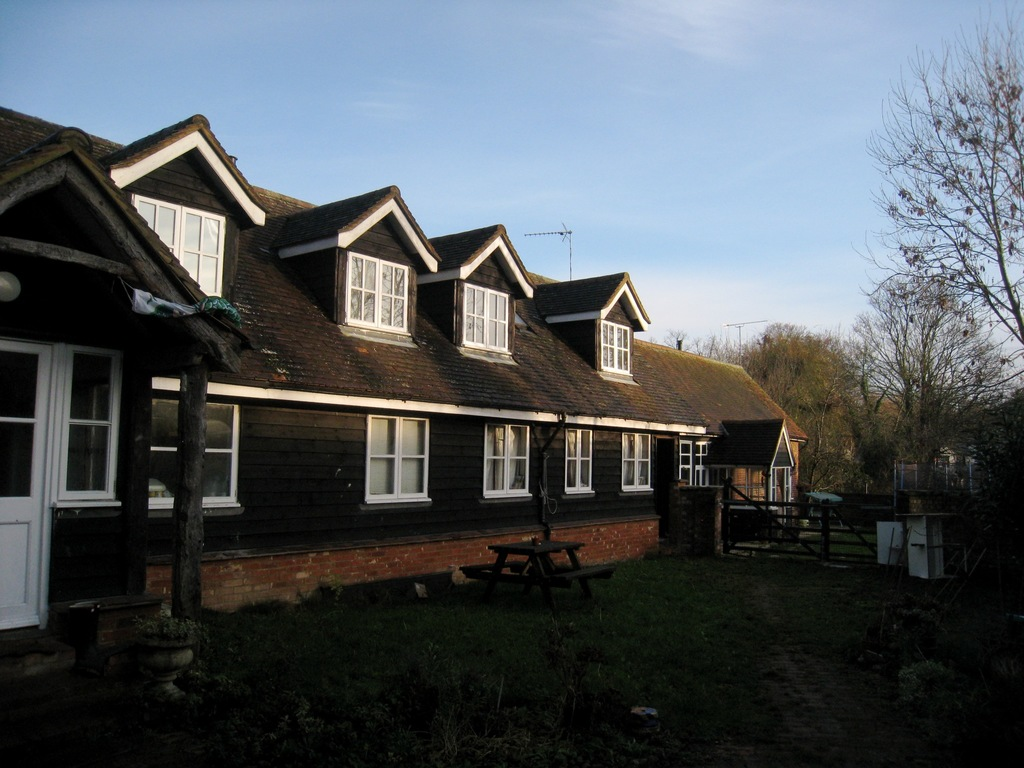Tree: (670, 0, 1023, 501)
